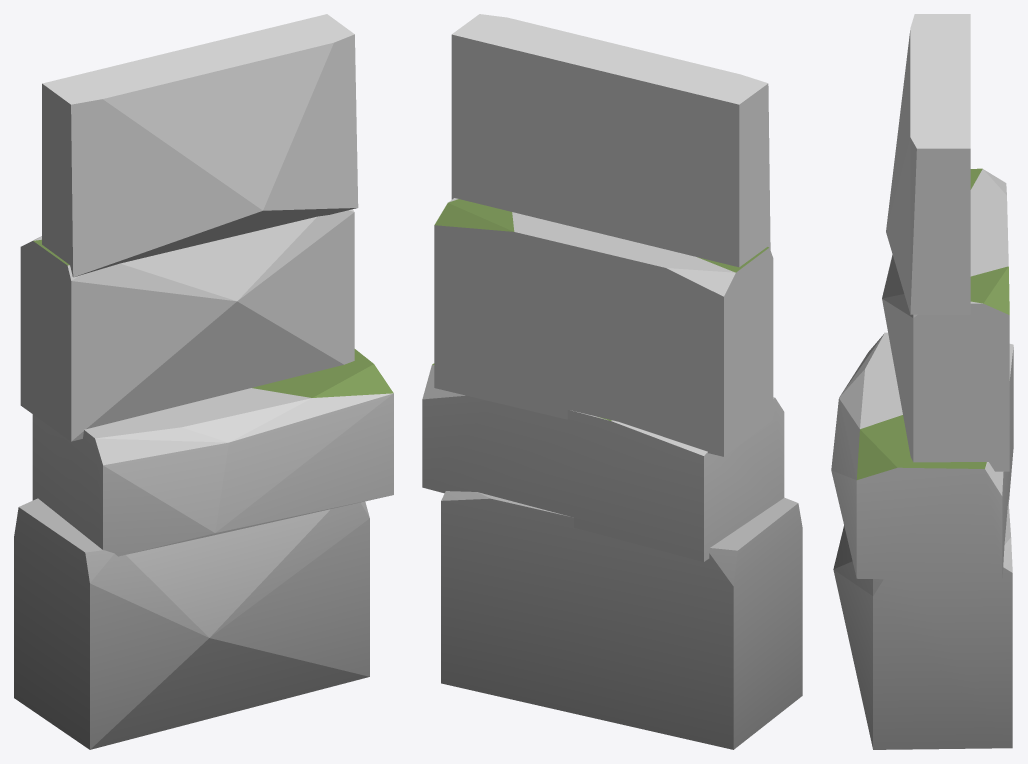
3 renders of one model, left to right at view 1: azimuth 30°, elevation 25°; view 2: azimuth 150°, elevation 25°; view 3: azimuth 270°, elevation 25°, orthographic. The views are drawn at different scales.
Visible parts, largest first — view 1: rk_ch4_1; view 2: rk_ch4_1; view 3: rk_ch4_1.
Part boxes in pixels (x1,y1,x2,y2): rk_ch4_1: (14, 14, 393, 749); rk_ch4_1: (422, 14, 802, 749); rk_ch4_1: (831, 14, 1013, 749).
Bounding box in the file's own units: 19.42 × 37.5 × 10.25.
